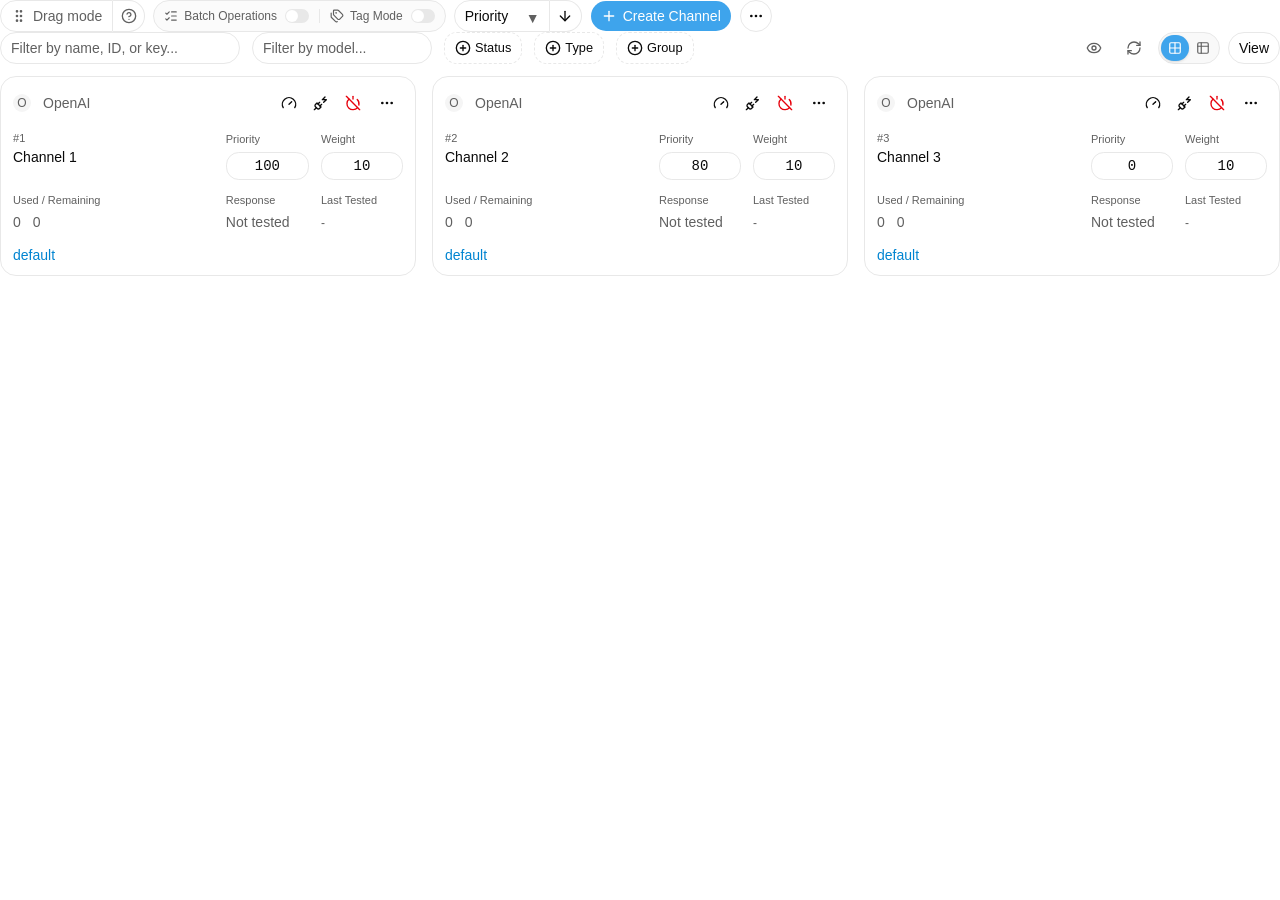
card view opens the matching tutorial without enabling drag mode
This screenshot has width=1280, height=900.
Expected: the button "Drag mode" is shown, [0,0,113,32]
Click the button named "Drag mode help". click: point(129, 16)
box: [113,0,145,32]
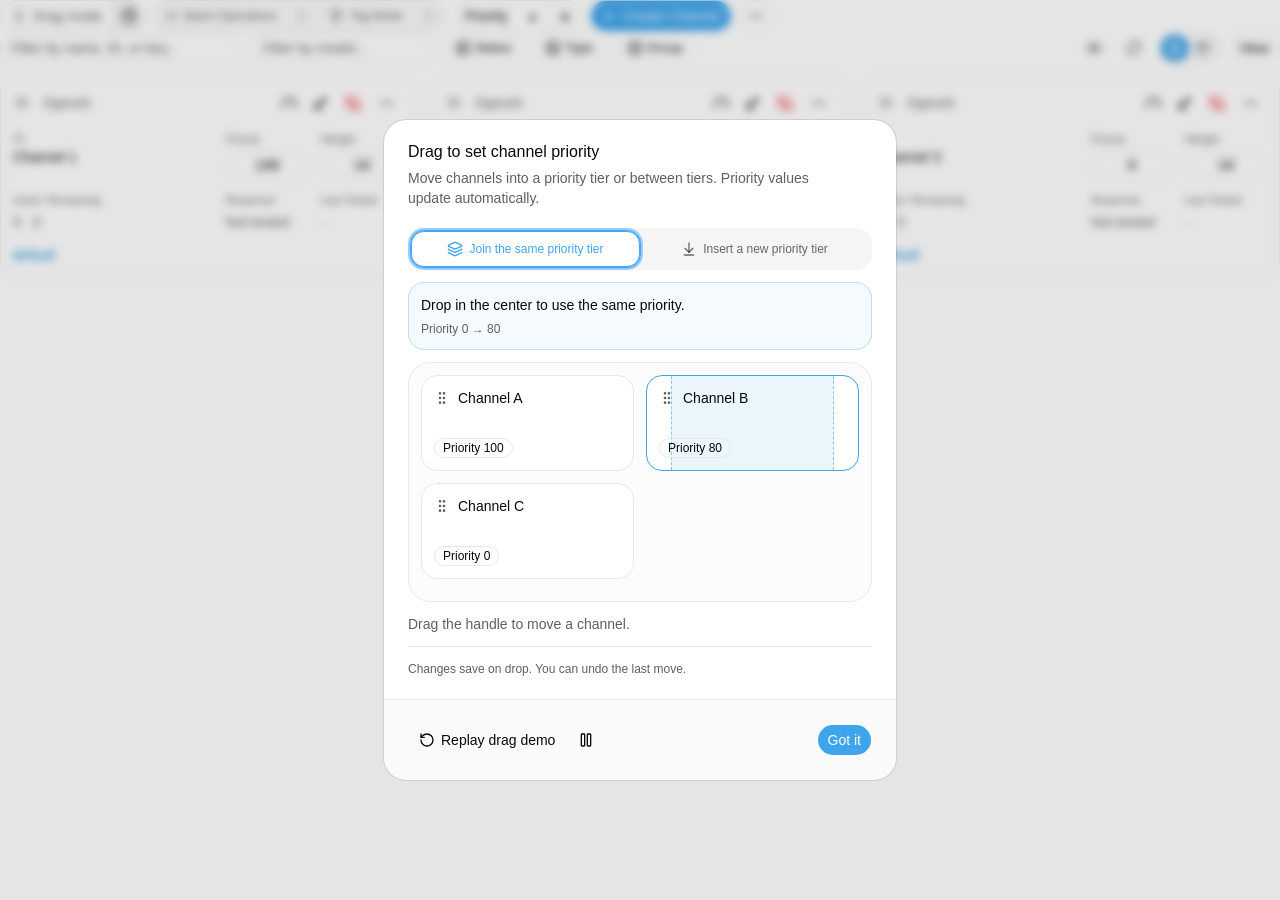
Result: the list named "Card view" is shown at [408,362,872,602]
Click the button "Got it". click: point(844, 740)
box: [816,724,872,756]
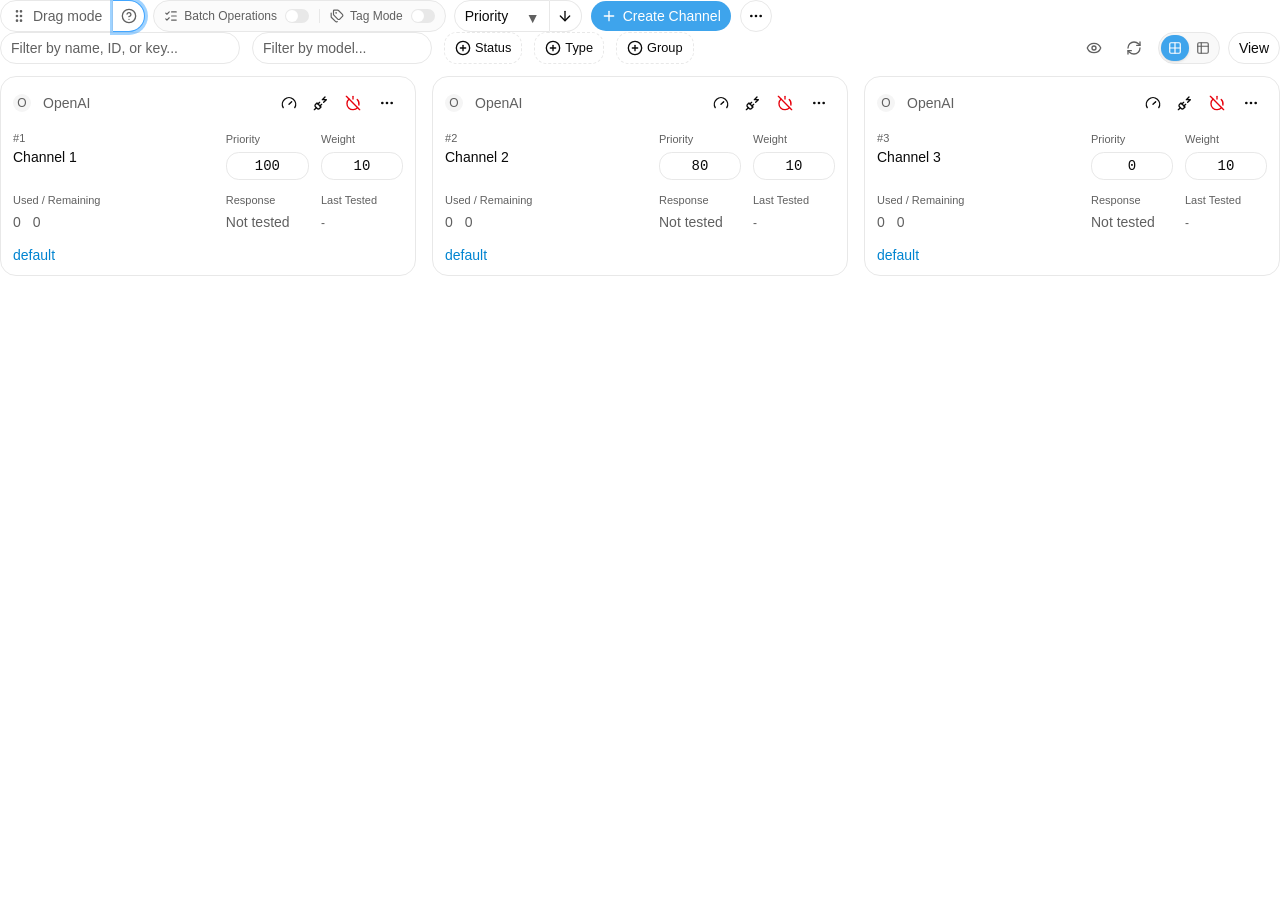
Result: the dialog is gone
